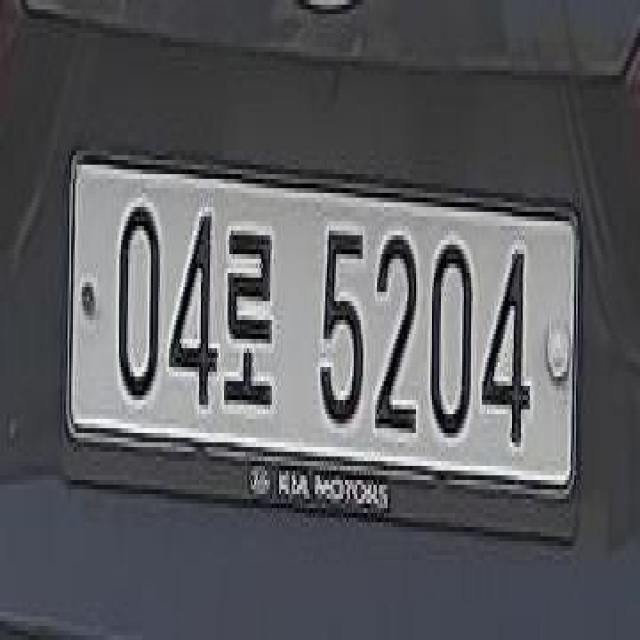illegal_plate: (66, 147, 586, 549)
